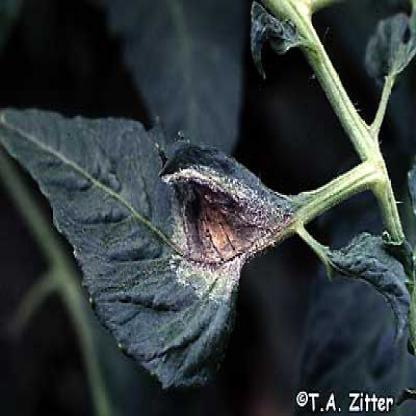tomato leaf late blight: (2, 87, 294, 385)
